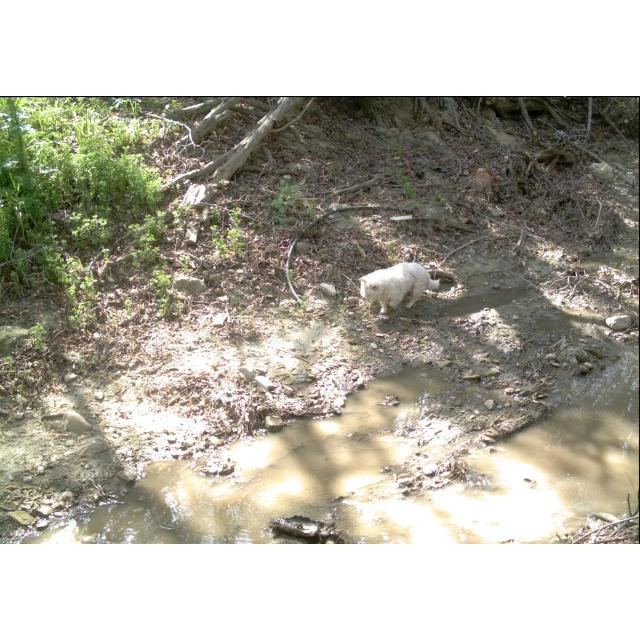animals: (356, 262, 442, 318)
